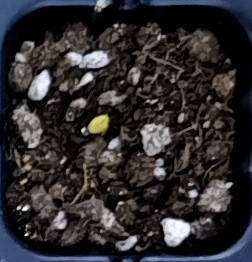pepper seed: (31, 45, 141, 180)
